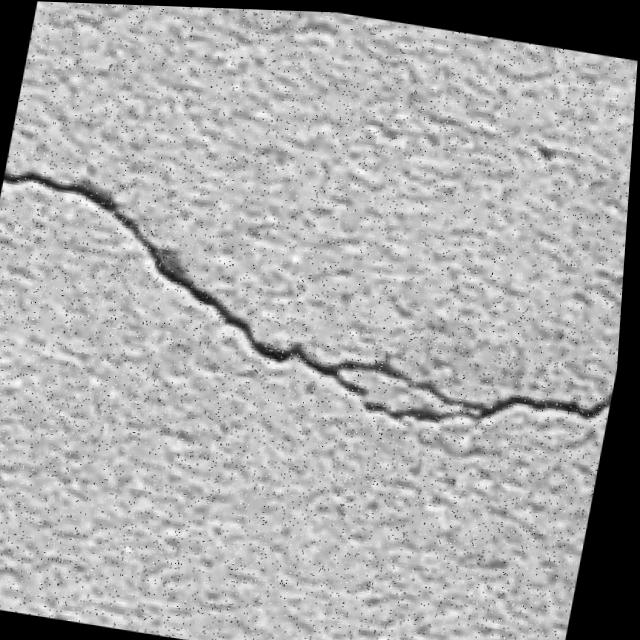Crack: (0, 153, 632, 454)
